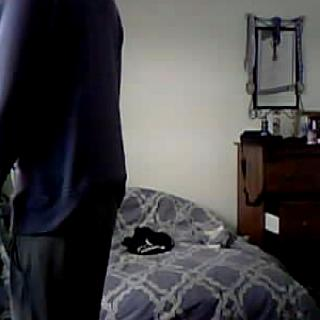Blue Hoodie: (0, 0, 124, 232)
Gray Sweatpants: (3, 221, 113, 320)
